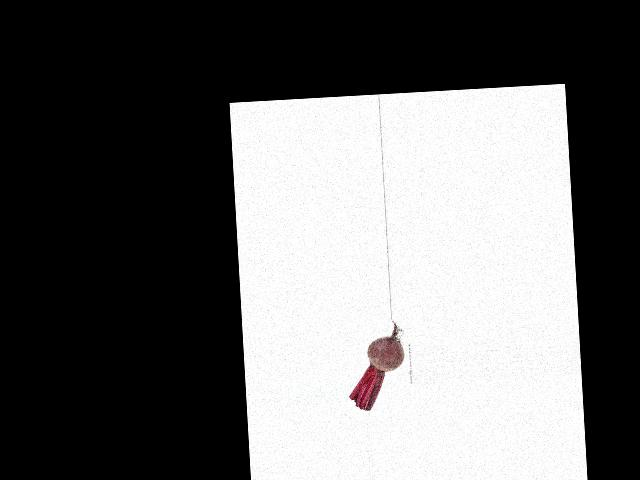beet: (345, 320, 407, 412)
